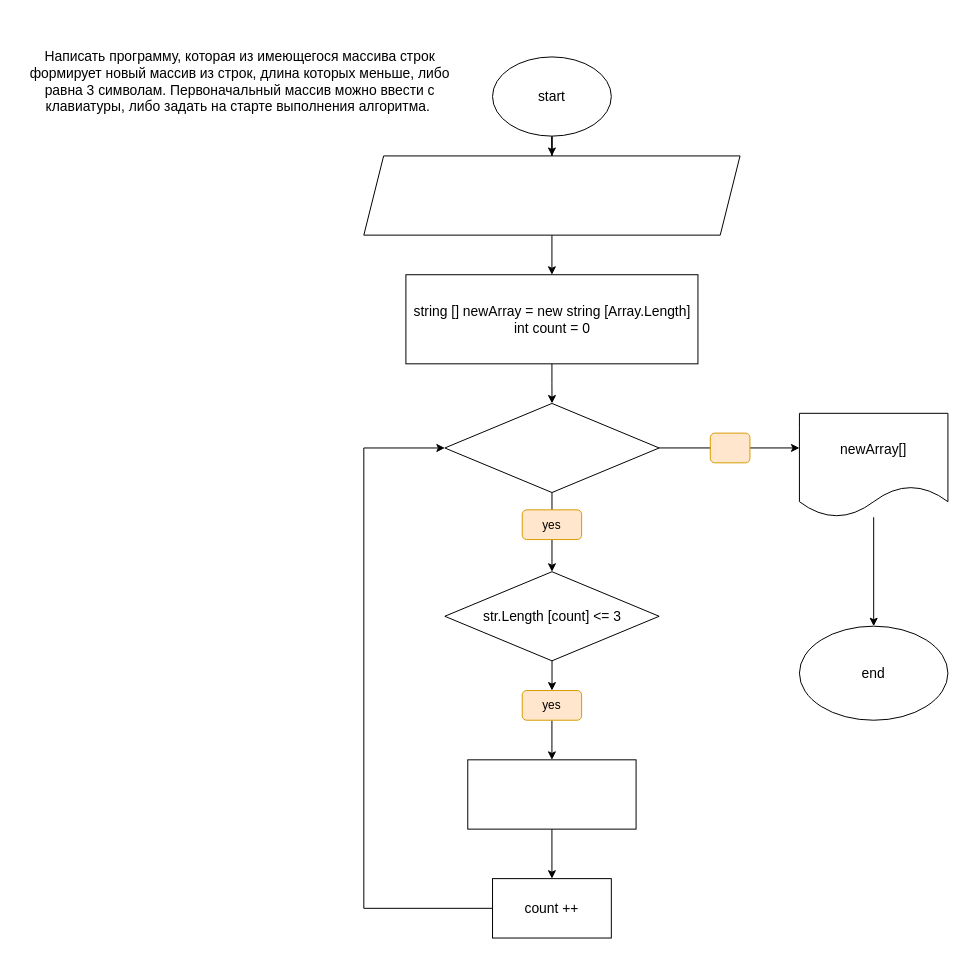
Image size: 965x955. Some labels were removed from this diagram. Here are the shapes that lost their labels. From the top down, the centre of each, then its label:
At [551,195]: "string [] Array =[“1234”, “1567”, “-2”, “computer science”]".
At [551,447]: "count <= Array.Length".
At [729,447]: "no".
At [551,794]: "newArray [count] = str".
